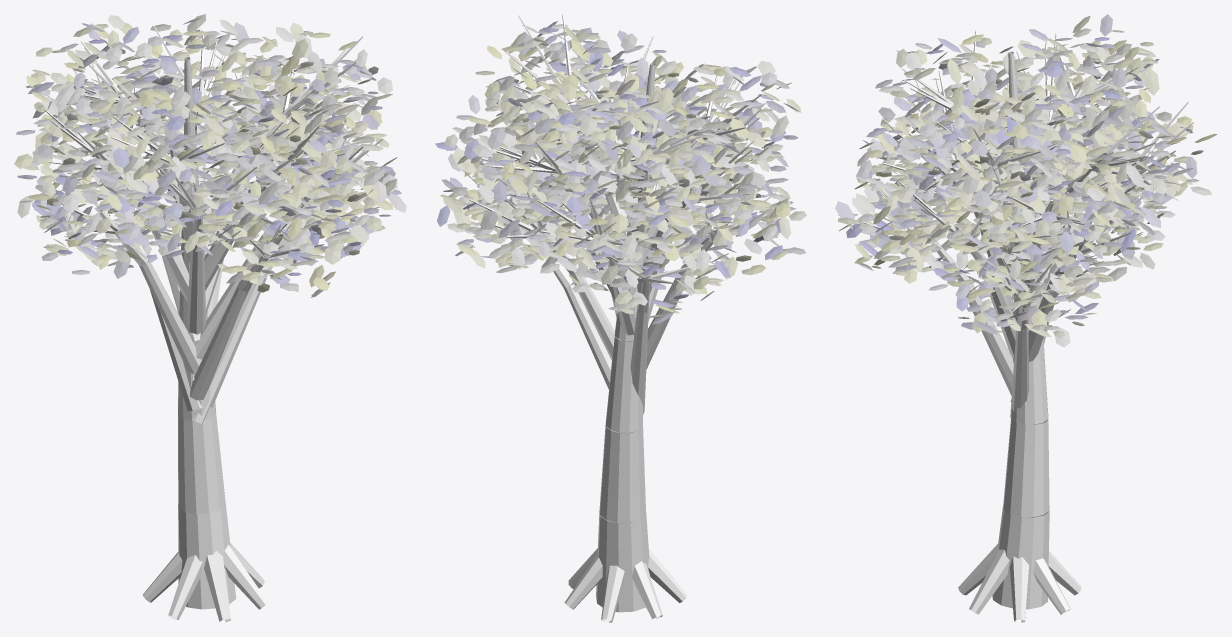
Rendered from SM_HQ_Tree_3.fbx.
3 views of the same model, side by side, from view 1: azimuth 30°, elevation 25°; view 2: azimuth 150°, elevation 25°; view 3: azimuth 270°, elevation 25° (orthographic). The views are drawn at different scales.
Visible parts, largest first — view 1: SM_HQ_Tree_3.001; view 2: SM_HQ_Tree_3.001; view 3: SM_HQ_Tree_3.001.
Boxes of the visible parts, left/top/right/bottom form: SM_HQ_Tree_3.001: left=14, top=14, right=406, bottom=622; SM_HQ_Tree_3.001: left=435, top=14, right=806, bottom=622; SM_HQ_Tree_3.001: left=835, top=14, right=1217, bottom=622.
Bounding box in the file's own units: 482 × 455 × 718.
